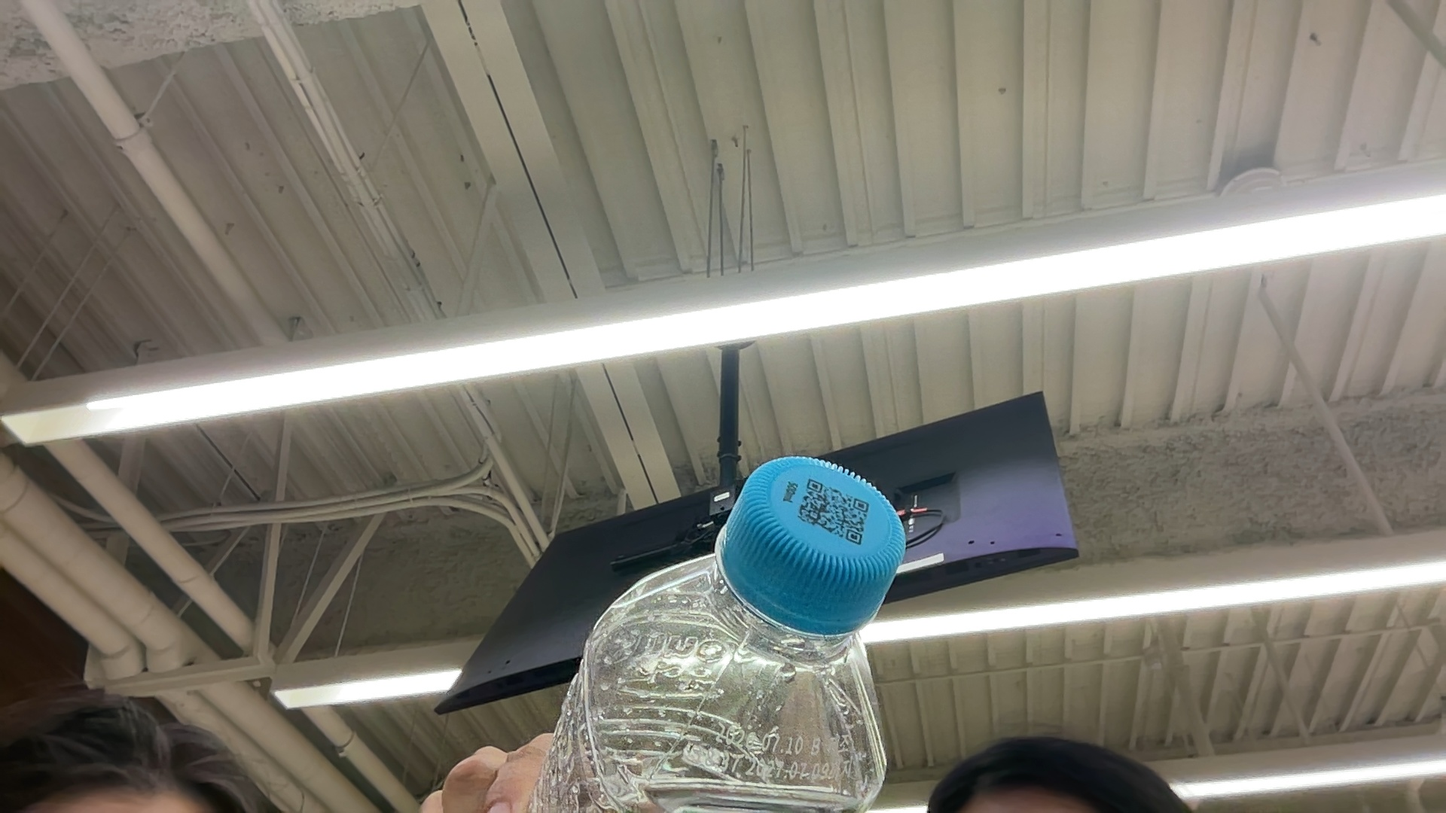Plastic: (720, 454, 907, 638)
